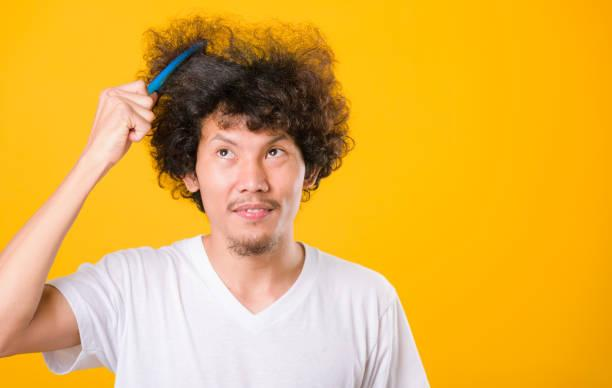dry hair: (296, 34, 333, 147), (208, 32, 252, 78), (255, 67, 279, 118)
